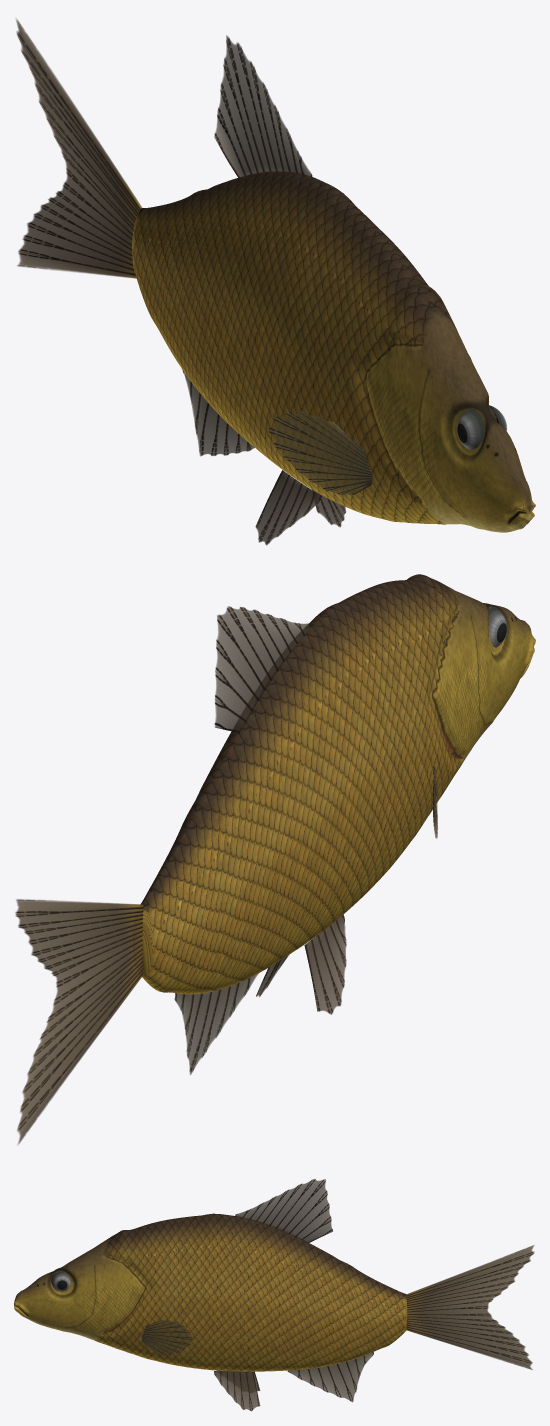
File: leszcz.glb
3 views of the same model, one above another, from view 1: azimuth 30°, elevation 25°; view 2: azimuth 150°, elevation 25°; view 3: azimuth 270°, elevation 25° (orthographic). The views are drawn at different scales.
Visible parts, largest first — view 1: Body, FinCaudal, FinDorsal1, FinPectoral, FinPelvic, FinAnal, EyeLeft; view 2: Body, FinCaudal, FinDorsal1, FinPelvic, FinAnal; view 3: Body, FinCaudal, FinDorsal1, FinAnal, FinPectoral, FinPelvic, EyeRight.
Boxes of the visible parts, x1,y1,x2,y2 form: Body: (132, 171, 535, 532); FinCaudal: (16, 19, 142, 278); FinDorsal1: (214, 35, 312, 177); FinPectoral: (267, 411, 372, 494); FinPelvic: (255, 470, 345, 545); FinAnal: (182, 369, 254, 456); EyeLeft: (457, 409, 484, 449); Body: (140, 574, 535, 994); FinCaudal: (15, 899, 143, 1144); FinDorsal1: (214, 606, 311, 732); FinPelvic: (256, 914, 346, 1014); FinAnal: (174, 973, 258, 1075); Body: (14, 1213, 407, 1371); FinCaudal: (406, 1245, 534, 1369); FinDorsal1: (235, 1179, 332, 1243); FinAnal: (287, 1352, 373, 1402); FinPectoral: (141, 1319, 193, 1355); FinPelvic: (214, 1370, 260, 1411); EyeRight: (51, 1271, 70, 1291).
Size of the model in its own units: 0.1918 by 0.4759 by 0.9983.
8 materials, 7 textured.
